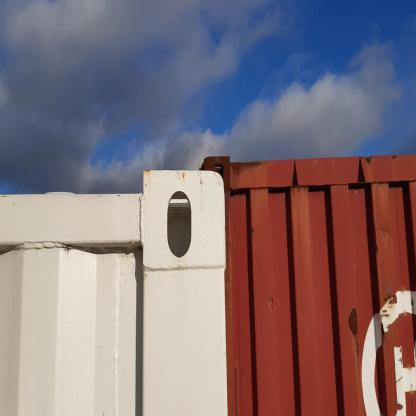CornerCasting: (138, 164, 226, 272)
